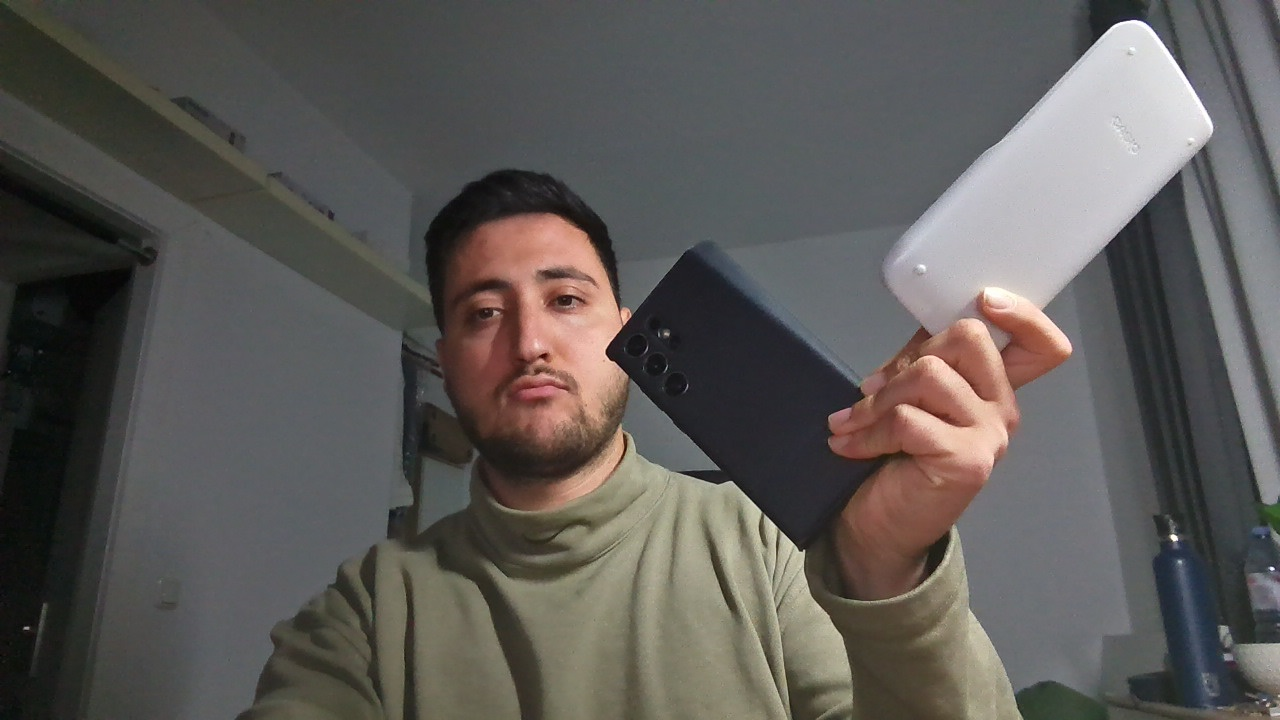Handy: (615, 199, 884, 556)
Taschenrechner: (879, 5, 1220, 363)
Wasserflasche: (1139, 501, 1238, 720)
me: (385, 172, 631, 500)
